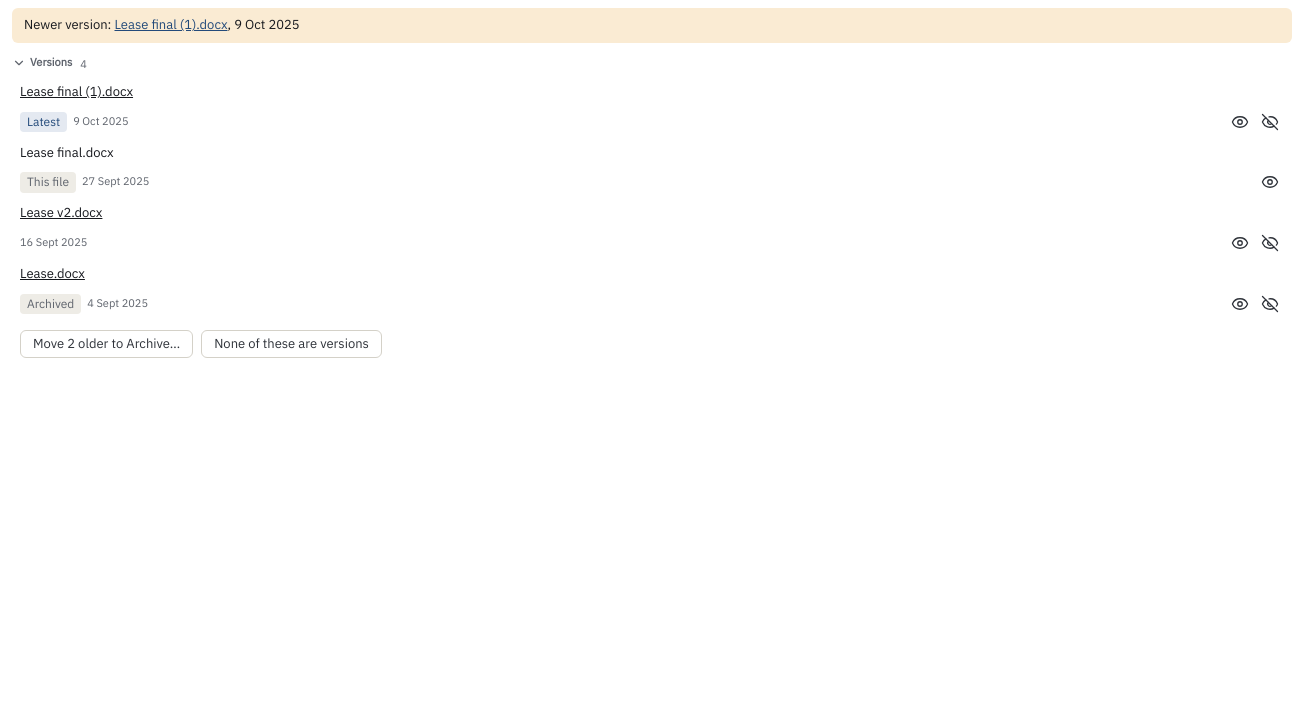
Test: the block › None of these are versions marks all the others with one Undo
Click the button "None of these are versions" at {"x": 292, "y": 344}, box [201, 330, 382, 358]
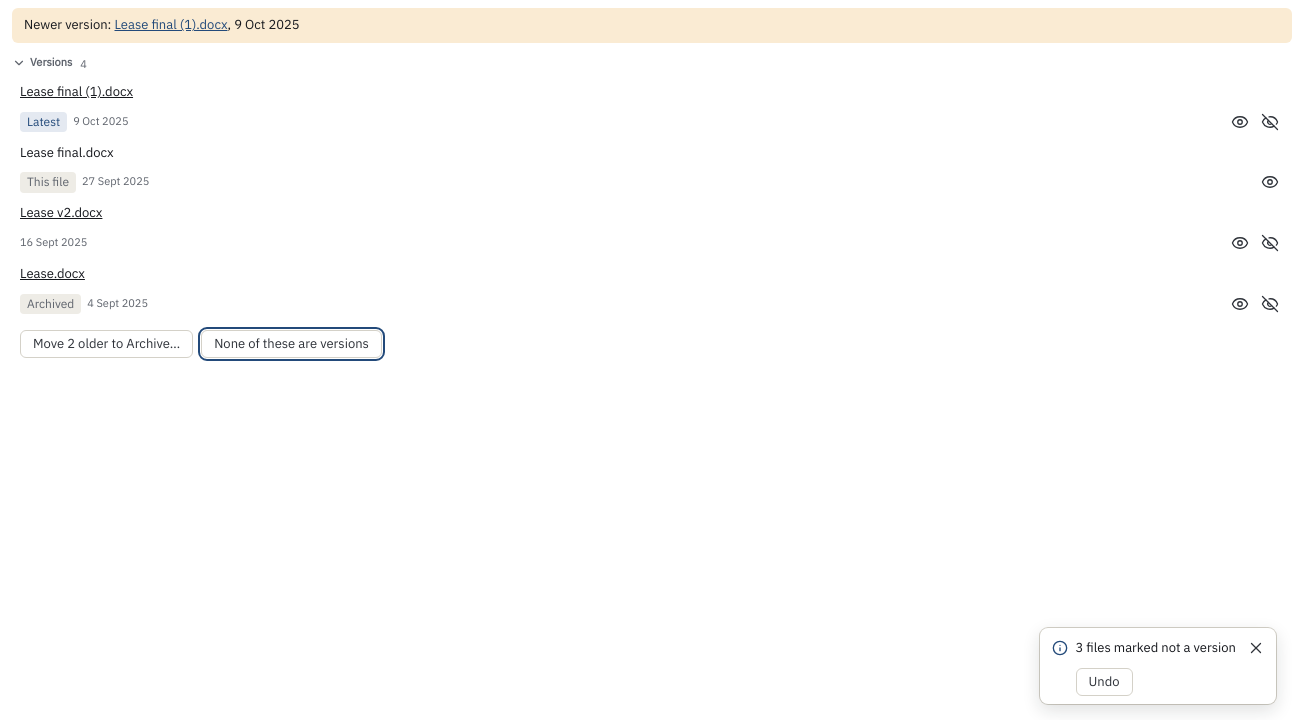
Expected: the text "3 files marked not a version" is shown, [1076, 639, 1236, 657]
Expected: the number of buttons "Undo" is 1, [1076, 668, 1132, 696]
